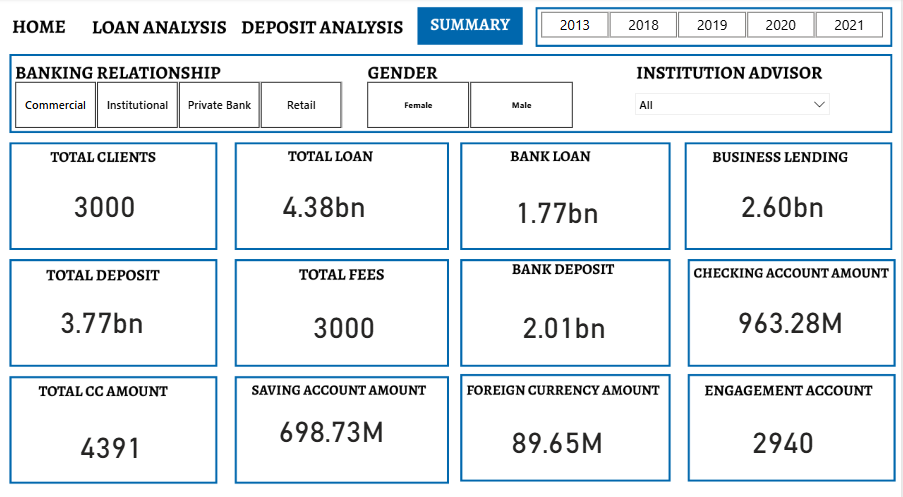

What the dashboard file says about the page in this screenshot:
{"tool":"powerbi","page":{"name":"Page 4","canvas":[1280,720],"ordinal":3},"visuals":[{"type":"actionButton","box":[14.2,19.8,100.6,39.7],"z":0},{"type":"actionButton","box":[127.6,19.8,206.9,39.7],"z":1000},{"type":"actionButton","box":[344.4,19.8,238.1,39.7],"z":2000},{"type":"slicer","fields":{"Values":["Banking.year of joining"]},"box":[745.8,13.4,534.2,50.4],"z":3000},{"type":"slicer","fields":{"Values":["Banking.IAId"]},"box":[893.6,124.3,295.6,79],"z":4000},{"type":"slicer","fields":{"Values":["Banking.GenderId"]},"box":[498.9,112.5,341,79],"z":5000},{"type":"slicer","fields":{"Values":["Banking.BRId"]},"box":[0,112.5,512.3,79],"z":6000},{"type":"card","fields":{"Values":["CountNonNull(Banking.Name)"]},"box":[13.4,246.9,278.8,89],"z":7000},{"type":"card","fields":{"Values":["Banking.total loorn"]},"box":[314.1,238.5,297.3,105.8],"z":8000},{"type":"card","fields":{"Values":["Banking.total deposit"]},"box":[0,403.1,297.3,105.8],"z":9000},{"type":"card","fields":{"Values":["Sum(Banking.Business Lending)"]},"box":[974.3,246.9,278.8,89],"z":10000},{"type":"card","fields":{"Values":["Sum(Banking.Checking Accounts)"]},"box":[985,411,277.8,89.3],"z":11000},{"type":"card","fields":{"Values":["Sum(Banking.Bank Loans)"]},"box":[654.8,255.1,277.8,89.3],"z":12000},{"type":"card","fields":{"Values":["Sum(Banking.Foreign Currency Account)"]},"box":[654.8,581.1,277.8,89.3],"z":13000},{"type":"card","fields":{"Values":["Sum(Banking.Saving Accounts)"]},"box":[334.5,565.5,277.8,89.3],"z":14000},{"type":"card","fields":{"Values":["Count(Banking.Client ID)"]},"box":[965.2,574,297.6,104.9],"z":15000},{"type":"card","fields":{"Values":["Sum(Banking.Bank Deposits)"]},"box":[654.8,411,297.6,104.9],"z":16000},{"type":"card","fields":{"Values":["Sum(Banking.Amount of Credit Cards)"]},"box":[12.8,581.1,297.6,104.9],"z":17000},{"type":"card","fields":{"Values":["CountNonNull(Banking.Fee Structure)"]},"box":[343,411,297.6,104.9],"z":18000}]}

Visuals, with their boxes in screenshot pixels (x1, y1, x2, y2), scaled from the page's 1280x720 canvas onto the 903x497 screenshot:
actionButton: x1=10, y1=14, x2=81, y2=41
actionButton: x1=90, y1=14, x2=236, y2=41
actionButton: x1=243, y1=14, x2=411, y2=41
slicer - Banking.year of joining: x1=526, y1=9, x2=902, y2=44
slicer - Banking.IAId: x1=630, y1=86, x2=839, y2=140
slicer - Banking.GenderId: x1=352, y1=78, x2=593, y2=132
slicer - Banking.BRId: x1=0, y1=78, x2=361, y2=132
card - CountNonNull(Banking.Name): x1=9, y1=170, x2=206, y2=232
card - Banking.total loorn: x1=222, y1=165, x2=431, y2=238
card - Banking.total deposit: x1=0, y1=278, x2=210, y2=351
card - Sum(Banking.Business Lending): x1=687, y1=170, x2=884, y2=232
card - Sum(Banking.Checking Accounts): x1=695, y1=284, x2=891, y2=345
card - Sum(Banking.Bank Loans): x1=462, y1=176, x2=658, y2=238
card - Sum(Banking.Foreign Currency Account): x1=462, y1=401, x2=658, y2=463
card - Sum(Banking.Saving Accounts): x1=236, y1=390, x2=432, y2=452
card - Count(Banking.Client ID): x1=681, y1=396, x2=891, y2=469
card - Sum(Banking.Bank Deposits): x1=462, y1=284, x2=672, y2=356
card - Sum(Banking.Amount of Credit Cards): x1=9, y1=401, x2=219, y2=474
card - CountNonNull(Banking.Fee Structure): x1=242, y1=284, x2=452, y2=356
